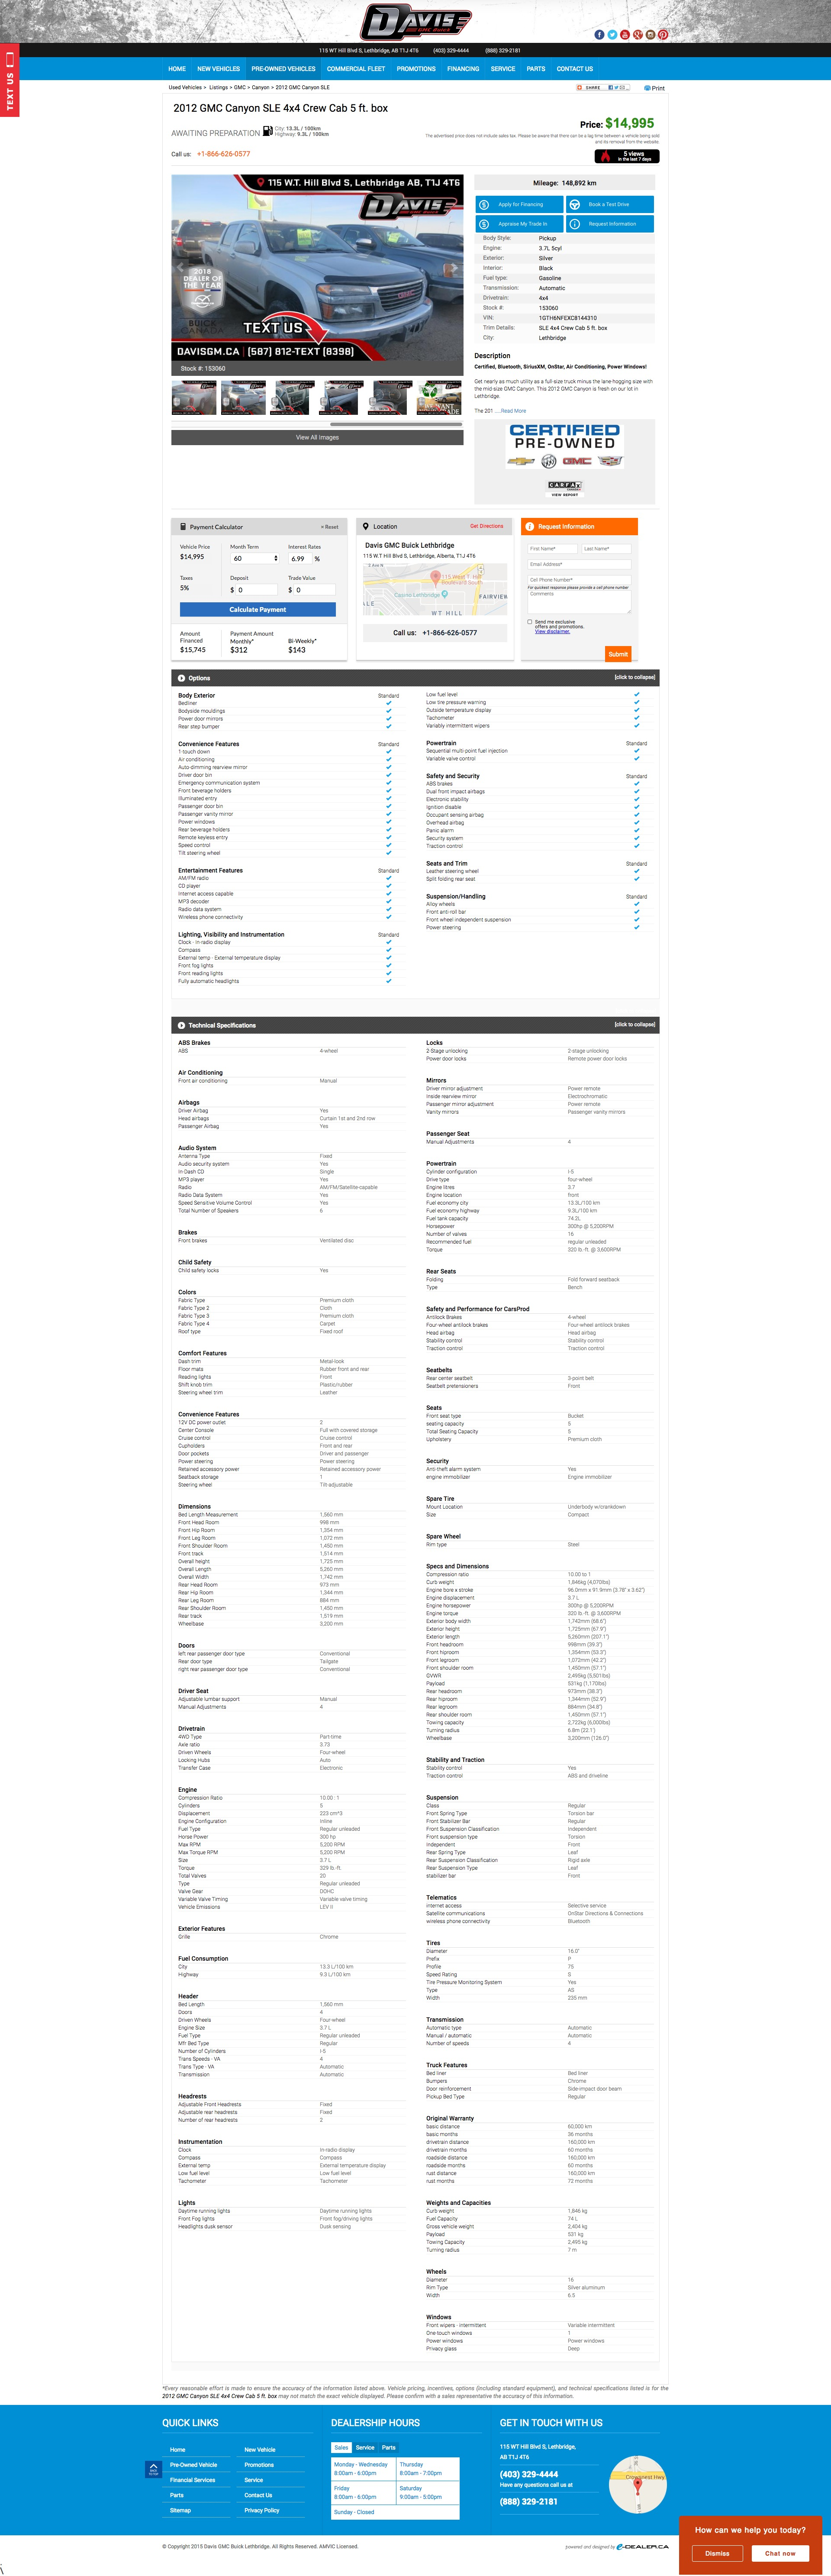car: (443, 258, 465, 281)
